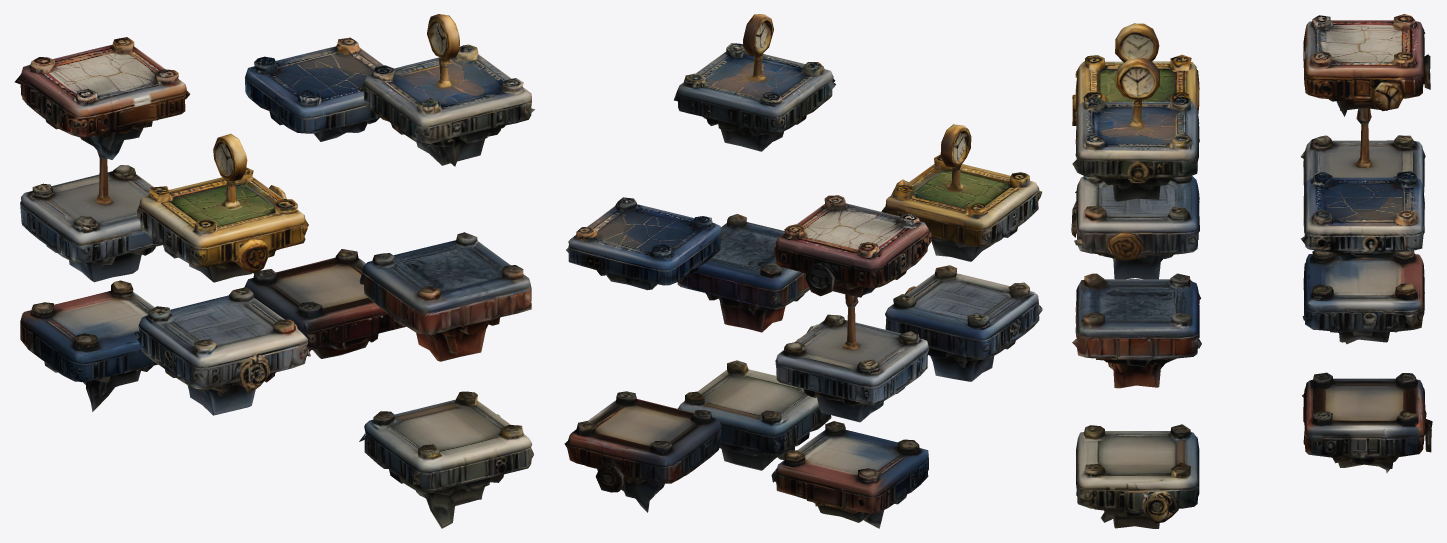
The model's file is clockPlatform2.fbx.
The picture shows the model from 3 angles, left to right: view 1: azimuth 30°, elevation 25°; view 2: azimuth 150°, elevation 25°; view 3: azimuth 270°, elevation 25°; orthographic projection. The views are drawn at different scales.
Visible parts, largest first — view 1: tripo_node_b9b836cf; view 2: tripo_node_b9b836cf; view 3: tripo_node_b9b836cf.
Part boxes in pixels (x1=…): tripo_node_b9b836cf: x1=14, y1=14, x2=534, y2=528; tripo_node_b9b836cf: x1=564, y1=14, x2=1042, y2=528; tripo_node_b9b836cf: x1=1071, y1=14, x2=1432, y2=528.
Bounding box in the file's own units: 0.7368 × 0.9987 × 0.6971.
1 material, 1 textured.
